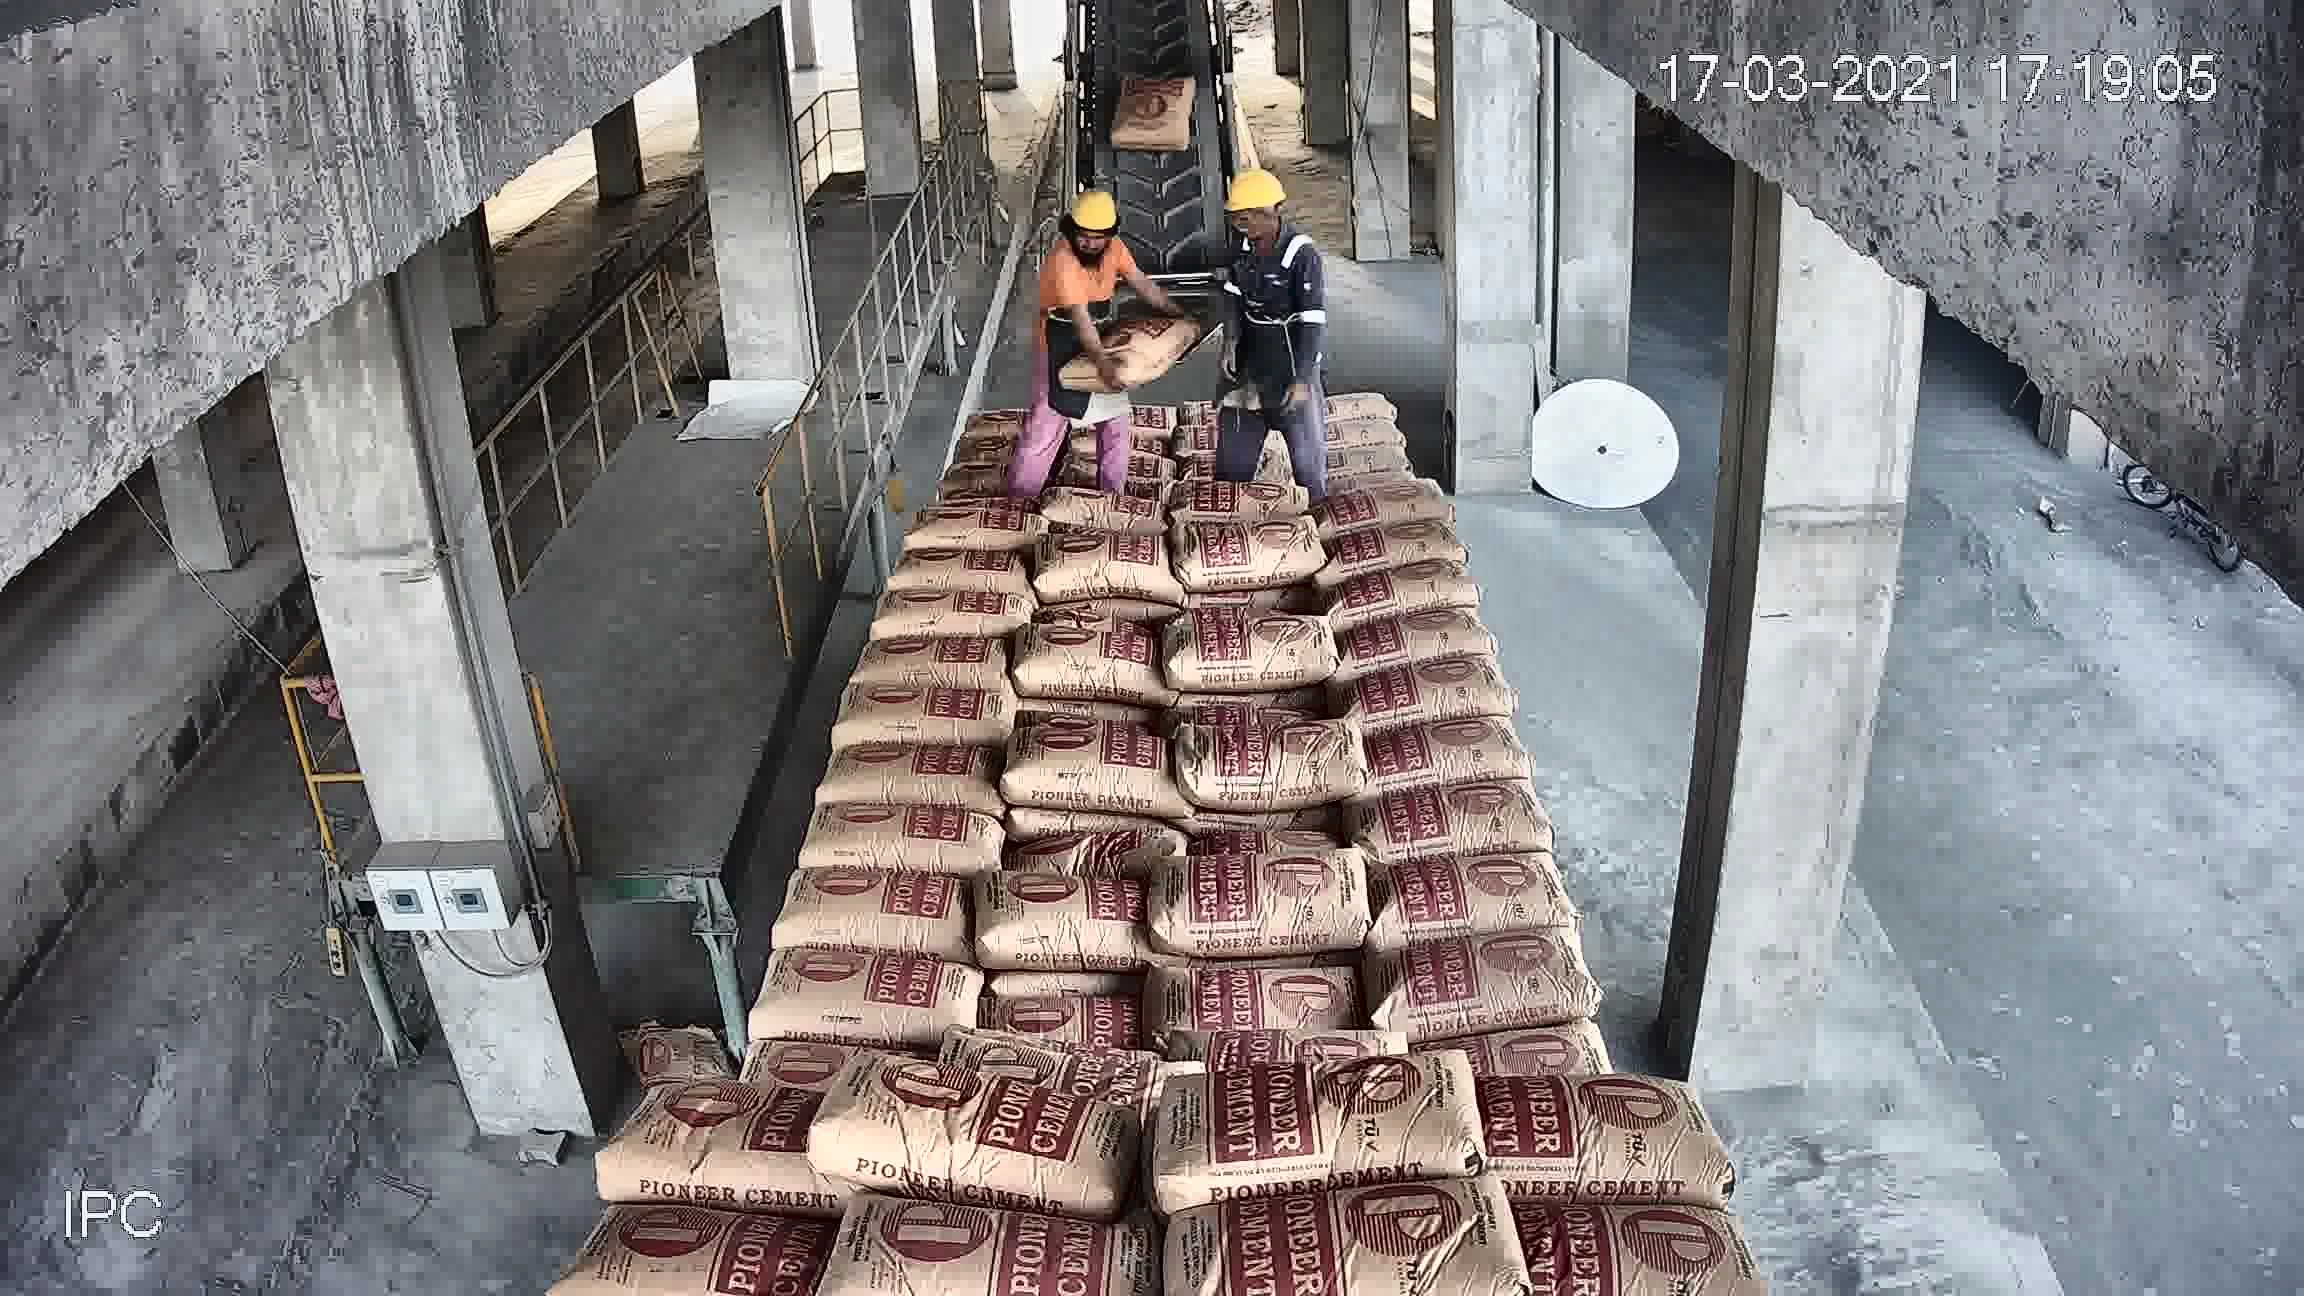bag: (1059, 310, 1207, 391), (1114, 79, 1198, 152)
bag_h: (1143, 1055, 1480, 1204), (842, 1063, 1138, 1212), (1173, 1166, 1518, 1290), (587, 1054, 823, 1188), (1358, 919, 1598, 1049), (836, 1203, 1166, 1296), (1454, 1076, 1700, 1193), (753, 937, 991, 1049), (1131, 842, 1358, 954), (1499, 1190, 1760, 1285), (1356, 850, 1576, 946), (761, 859, 973, 954), (548, 1218, 818, 1291), (964, 870, 1150, 975), (1135, 956, 1370, 1033), (1160, 728, 1375, 810), (1011, 711, 1174, 817), (1364, 775, 1548, 869), (821, 676, 1022, 756), (961, 965, 1143, 1048), (813, 737, 1019, 809), (994, 627, 1165, 712), (1177, 612, 1353, 695), (794, 805, 1014, 870), (1169, 502, 1324, 587), (957, 1044, 1203, 1092), (1361, 658, 1521, 725), (897, 487, 1036, 563), (1456, 1006, 1620, 1070), (1366, 715, 1537, 775), (1032, 544, 1176, 616), (870, 589, 1036, 649), (1324, 612, 1503, 668), (1168, 473, 1321, 536), (1006, 821, 1188, 870), (878, 541, 1029, 600), (837, 638, 1002, 690), (1321, 468, 1448, 530), (1324, 563, 1487, 611), (1328, 524, 1465, 571), (1040, 492, 1174, 540), (1071, 416, 1188, 456), (1310, 434, 1408, 479), (927, 457, 1017, 503), (1320, 411, 1412, 456), (1307, 377, 1397, 415), (945, 427, 1019, 472), (953, 405, 1024, 438)
belt: (1051, 28, 1249, 348)
